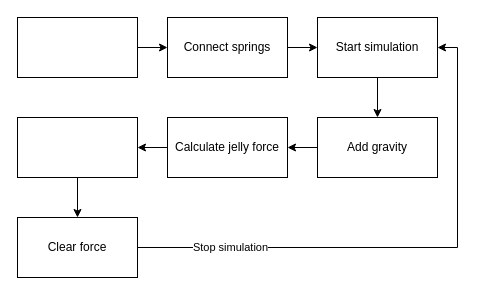
This 483x295 diagram has some shape labels left out. The box of each missing label's shape, as (x1, y1, x2, y2) in pixels:
Initialize particles: (16, 16, 138, 78)
Update position and velocity: (16, 116, 138, 178)
